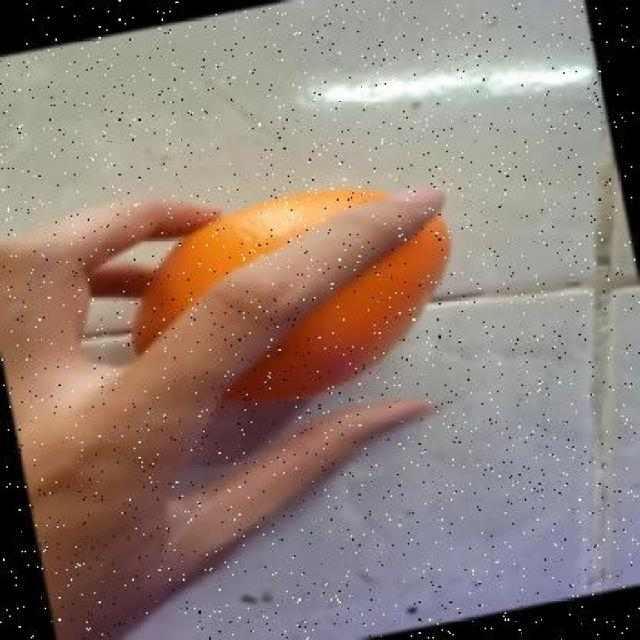Orange: (128, 183, 452, 412)
